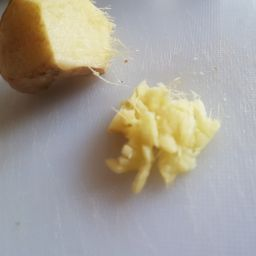Minced ginger: (1, 1, 238, 210), (106, 78, 225, 195), (2, 1, 128, 103)
